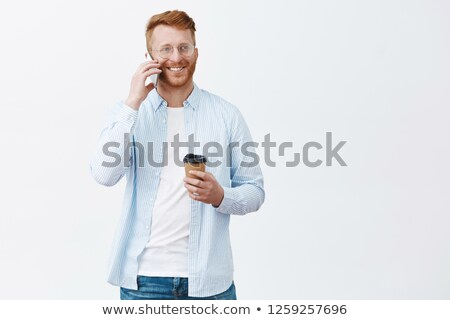phone: (136, 56, 161, 90)
talk: (129, 39, 196, 98)
